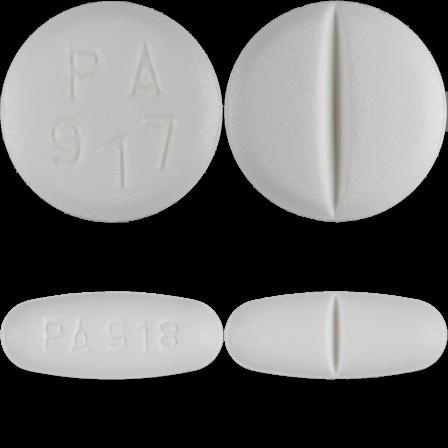50111-917: (0, 0, 224, 224)
